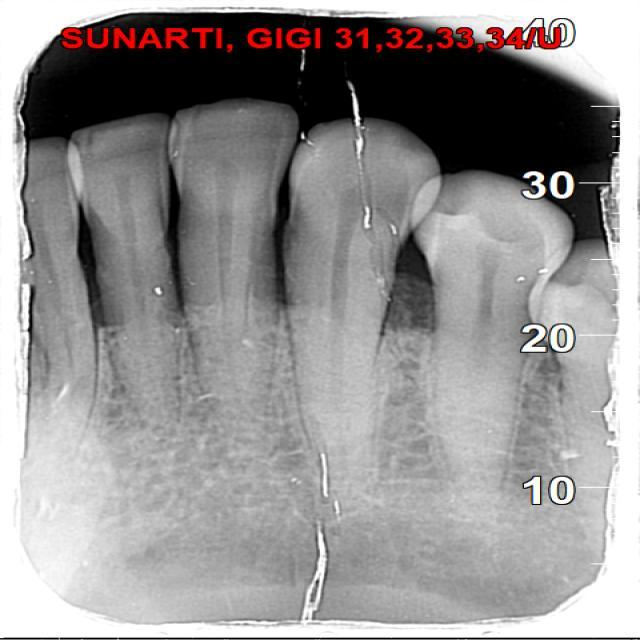individual-tooth-8tto: (406, 171, 586, 527), (286, 122, 440, 511), (167, 99, 293, 445), (62, 114, 184, 437)
